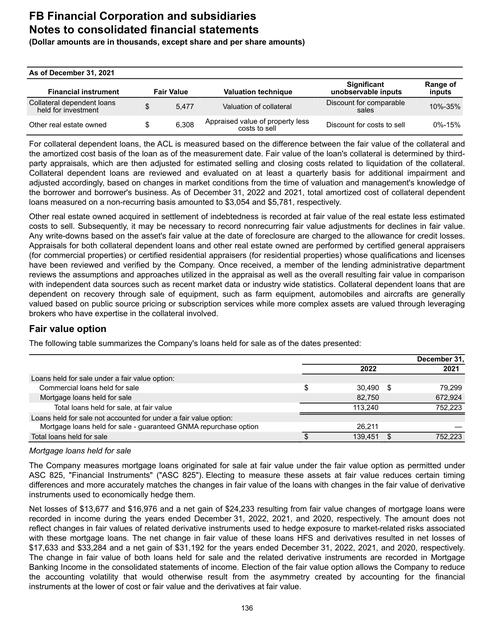box: (29, 352, 467, 445), (25, 64, 465, 137)
